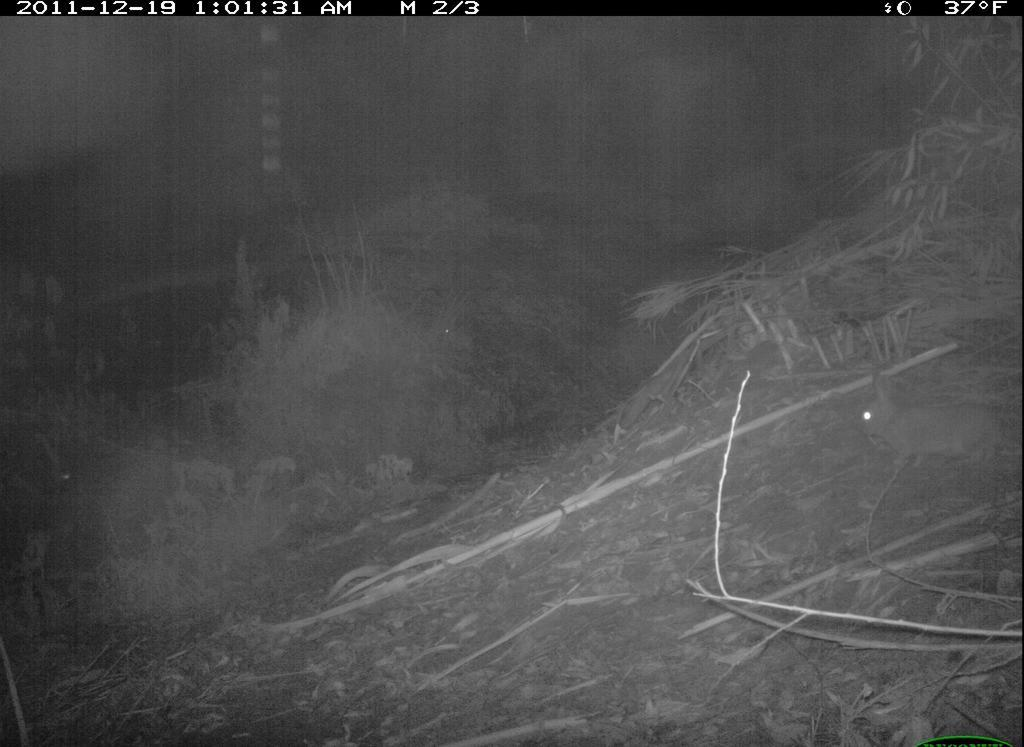rabbit: (847, 364, 1013, 473)
